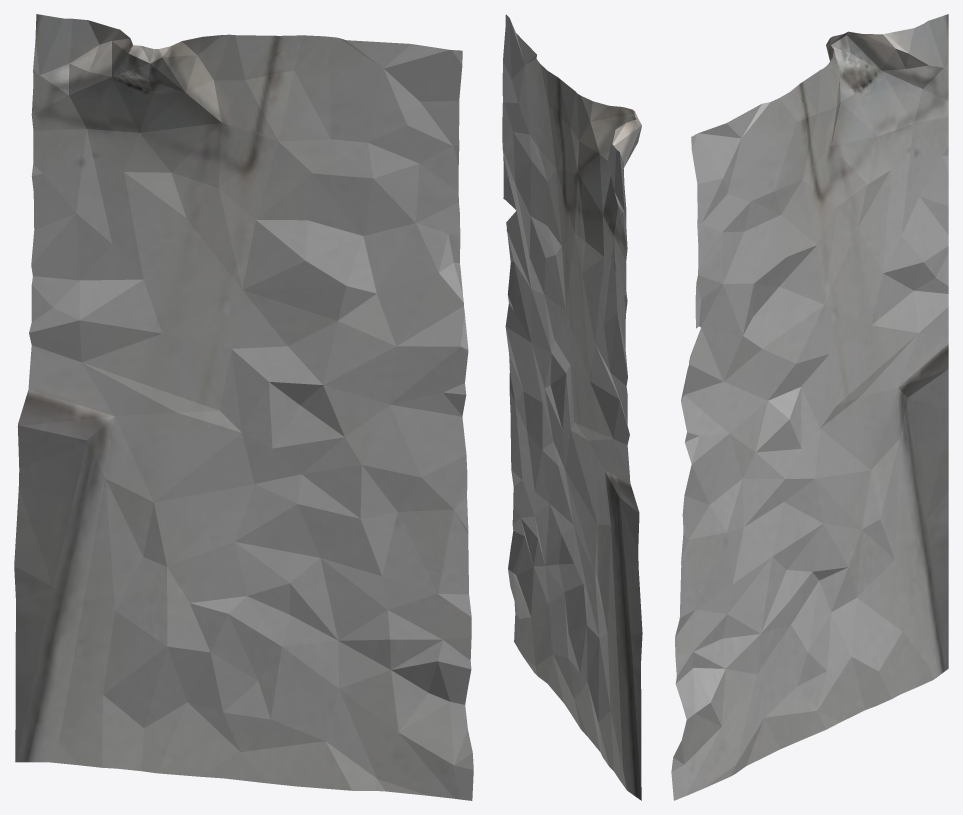
3 views of the same model, side by side, from view 1: azimuth 30°, elevation 25°; view 2: azimuth 150°, elevation 25°; view 3: azimuth 270°, elevation 25° (orthographic). The views are drawn at different scales.
Bounding box in the file's own units: 0.3589 × 0.8374 × 0.3169.
Materials: 2 (2 with a texture image).
